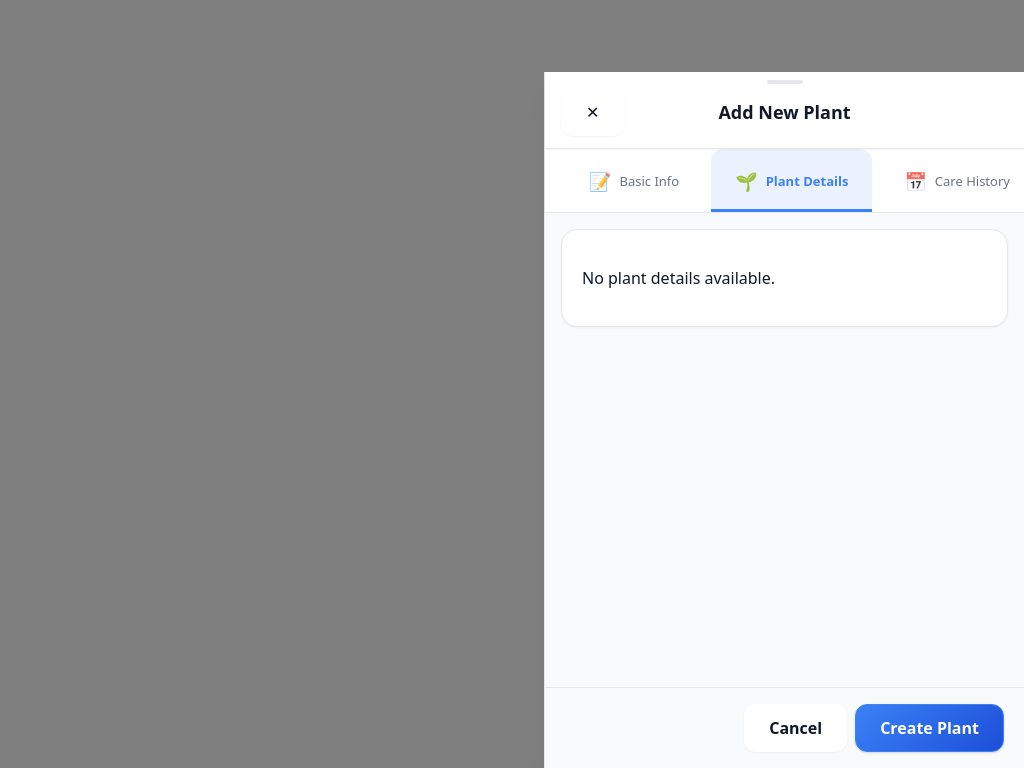
it: PinEditorDrawer › shows position information
Note: Should show position display in the basic info tab
Step 1. Click the text "Basic Info" → (649, 181), box [620,172,679,190]
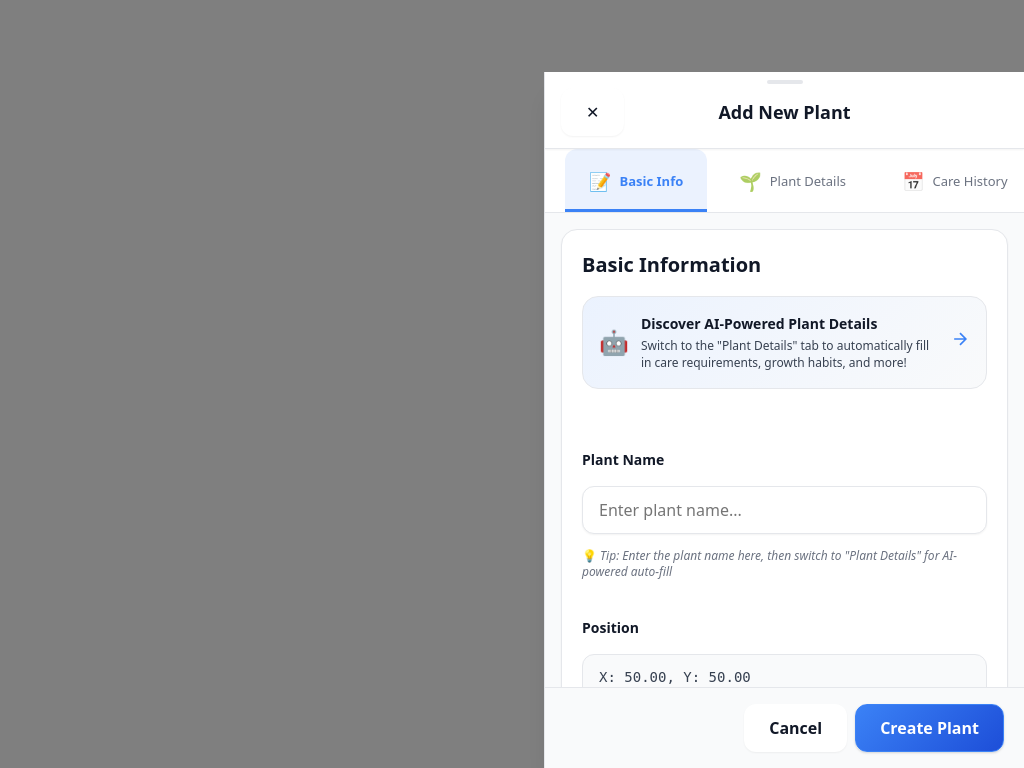
Result: the text "X: 50.00, Y: 50.00" is shown at [582,654,987,687]
